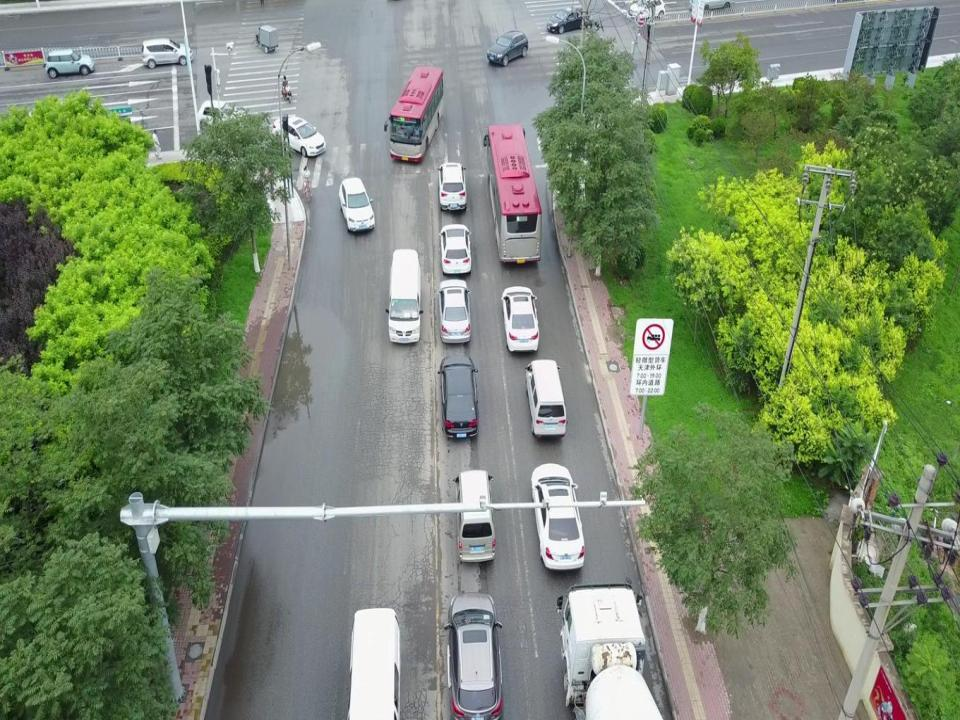bus: (484, 124, 541, 264), (384, 66, 443, 163)
car: (444, 592, 503, 720), (530, 462, 585, 570), (437, 354, 478, 439), (500, 286, 539, 353), (436, 278, 471, 342), (272, 117, 326, 157), (196, 99, 248, 139), (338, 177, 375, 232), (438, 223, 472, 275), (486, 30, 529, 67), (142, 38, 193, 68), (45, 48, 95, 78), (436, 163, 467, 211), (546, 7, 586, 34), (628, 0, 665, 20), (688, 0, 736, 11)
truck: (557, 578, 665, 720)
van: (346, 608, 402, 720), (453, 470, 495, 564), (385, 248, 423, 344), (526, 358, 568, 438)
